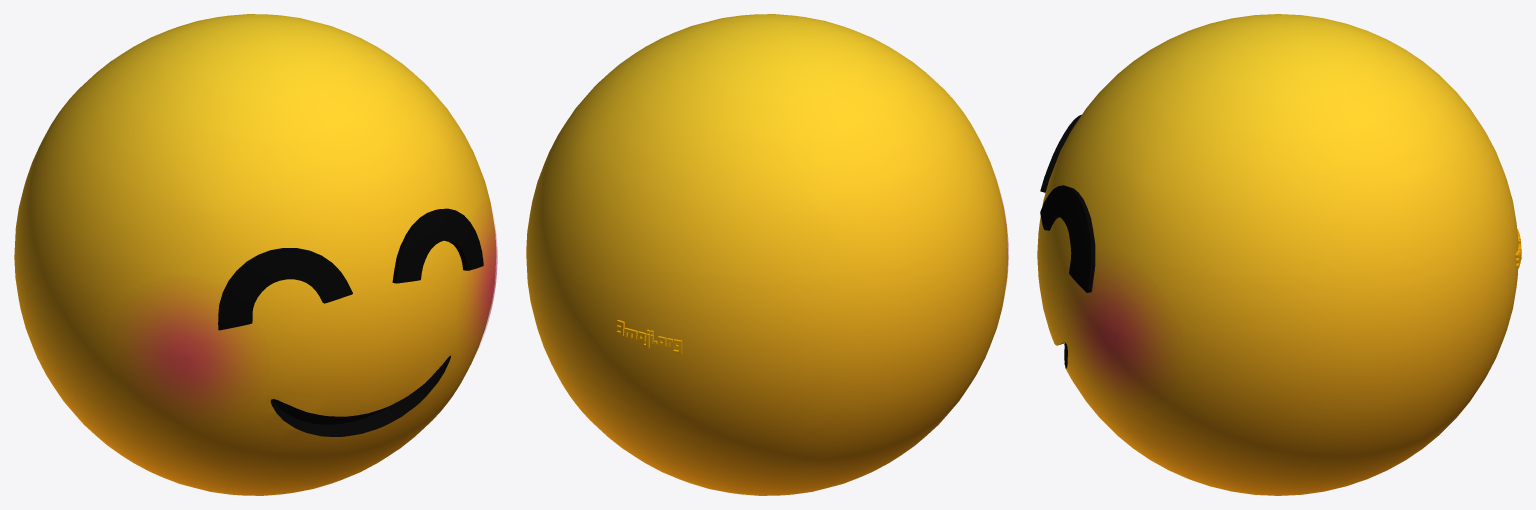
File: smiling_face_with_smiling_eyes.glb
The picture shows the model from 3 angles, left to right: view 1: azimuth 30°, elevation 25°; view 2: azimuth 150°, elevation 25°; view 3: azimuth 270°, elevation 25°; orthographic projection.
Visible parts, largest first — view 1: Smiling Face with Smiling Eyes; view 2: Smiling Face with Smiling Eyes; view 3: Smiling Face with Smiling Eyes.
Boxes of the visible parts, <box> form: Smiling Face with Smiling Eyes: <box>14,14,497,495</box>; Smiling Face with Smiling Eyes: <box>526,14,1008,495</box>; Smiling Face with Smiling Eyes: <box>1037,14,1521,495</box>.
Bounding box in the file's own units: 1.69 × 1.69 × 1.7.
Materials: 2 (2 with a texture image).
